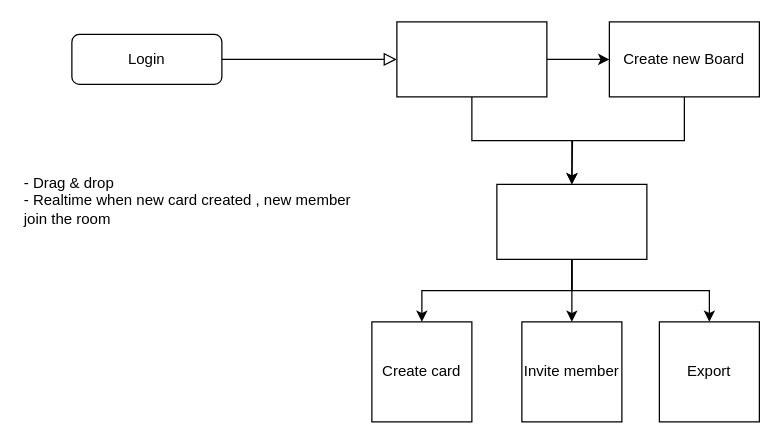
This 781x444 diagram has some shape labels left out. Here are the shapes that lost their labels. From the top down, the box of each, then its label:
(396, 21, 547, 97): Board List
(496, 183, 647, 259): Board Index
